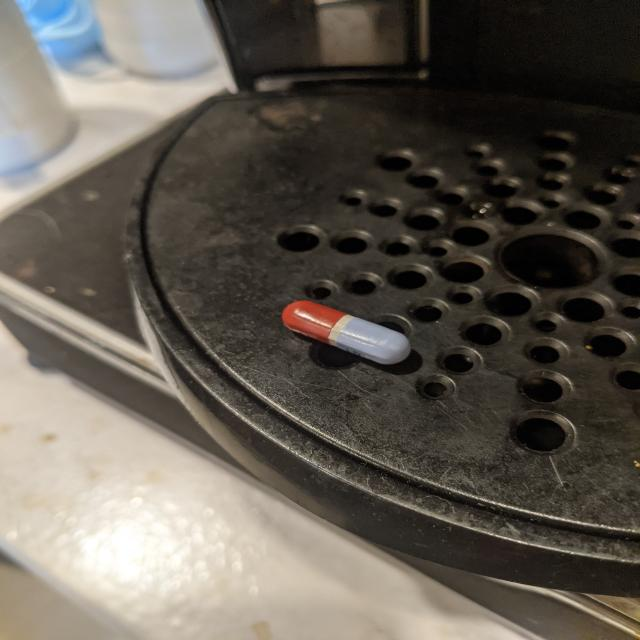non-organic waste: (281, 298, 413, 366)
